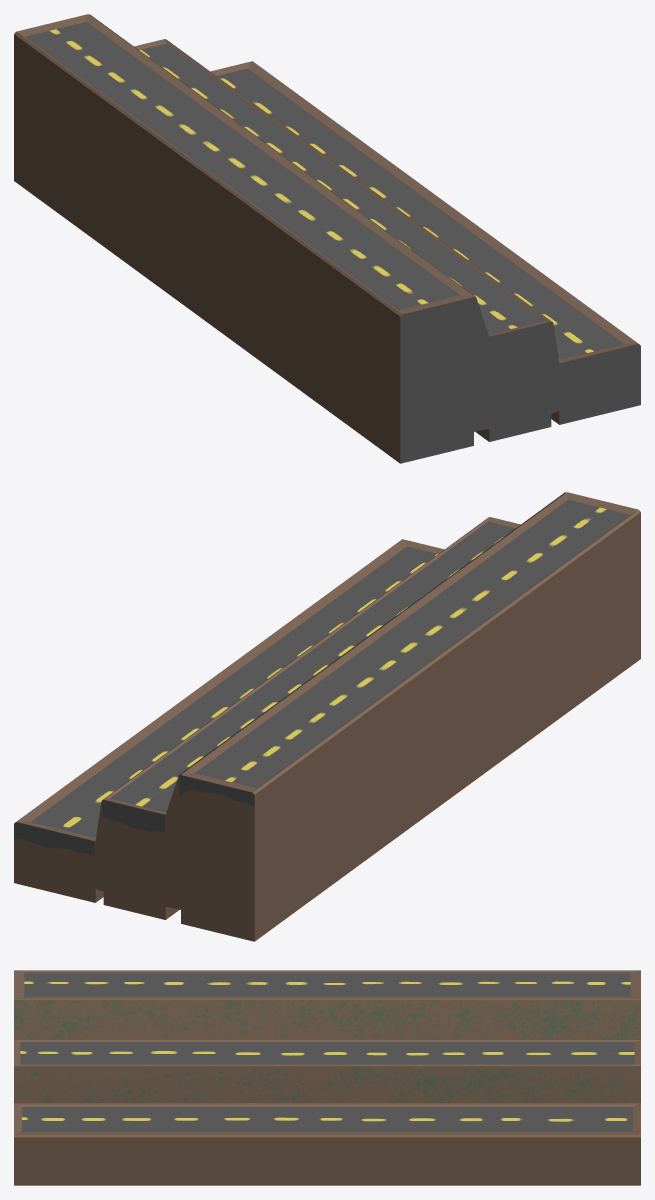
The model's file is RoadFBX.fbx.
3 renders of one model, top to bottom at view 1: azimuth 30°, elevation 25°; view 2: azimuth 150°, elevation 25°; view 3: azimuth 270°, elevation 25°, orthographic. The views are drawn at different scales.
Visible parts, largest first — view 1: Road; view 2: Road; view 3: Road.
Part boxes in pixels (box(x1,y1,x2,y2)): Road: box(14, 14, 640, 463); Road: box(14, 492, 640, 941); Road: box(14, 970, 640, 1185).
Size of the model in its own units: 3.76 by 2.22 by 10.46.
1 material, 1 textured.
